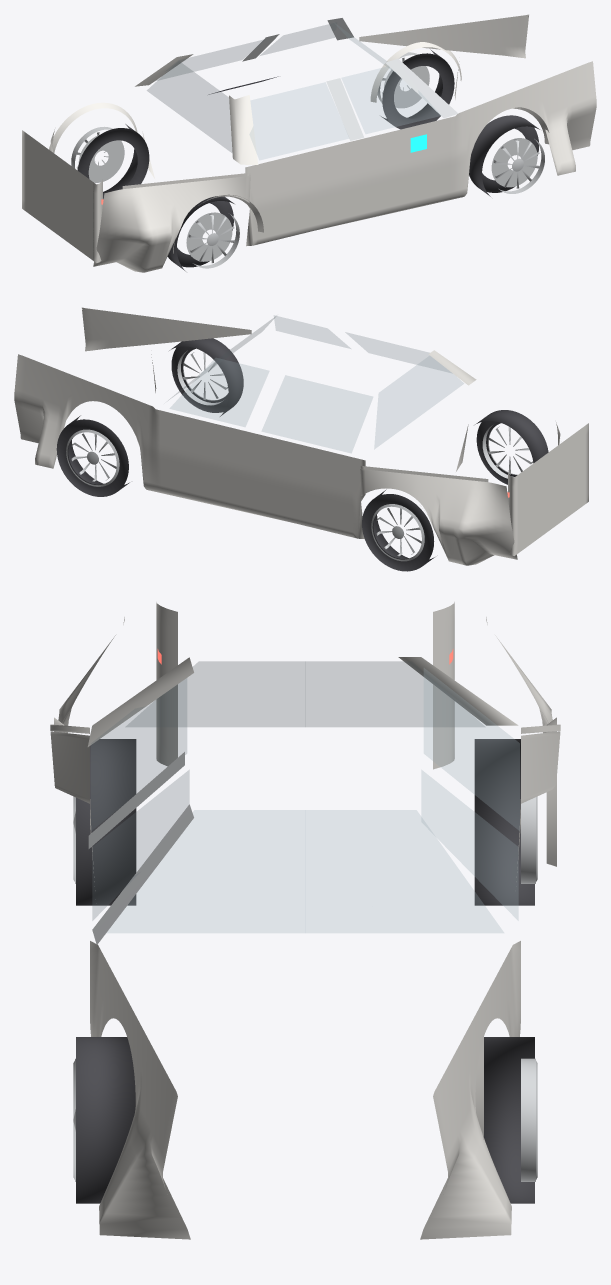
File: ev-sedan.glb
The picture shows the model from 3 angles, top to bottom: view 1: azimuth 30°, elevation 25°; view 2: azimuth 150°, elevation 25°; view 3: azimuth 270°, elevation 25°; orthographic projection. The views are drawn at different scales.
Visible parts, largest first — view 1: EvSedan; view 2: EvSedan; view 3: EvSedan.
Part boxes in pixels (x1=…): EvSedan: x1=22, y1=14, x2=596, y2=272; EvSedan: x1=14, y1=307, x2=588, y2=571; EvSedan: x1=50, y1=602, x2=560, y2=1239.
Bounding box in the file's own units: 5 × 1.4 × 2.2.
